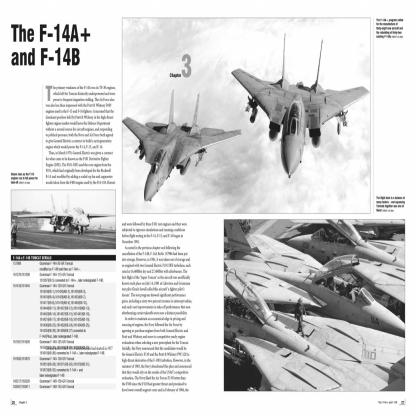F14: (225, 268, 406, 392), (225, 220, 406, 339), (232, 34, 371, 180), (123, 90, 243, 205), (285, 220, 406, 317), (14, 195, 117, 235), (285, 220, 406, 241)
